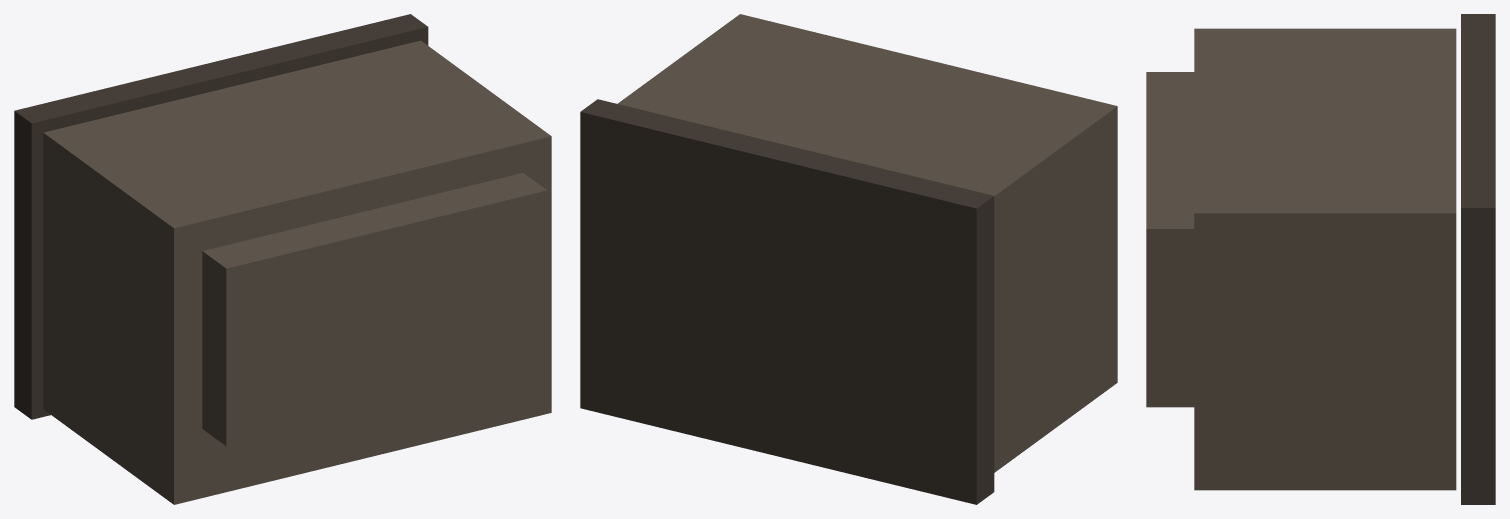
File: body_vagrant_01.obj
The picture shows the model from 3 angles, left to right: view 1: azimuth 30°, elevation 25°; view 2: azimuth 150°, elevation 25°; view 3: azimuth 270°, elevation 25°; orthographic projection.
Bounding box in the file's own units: 1.05 × 0.75 × 0.8.
